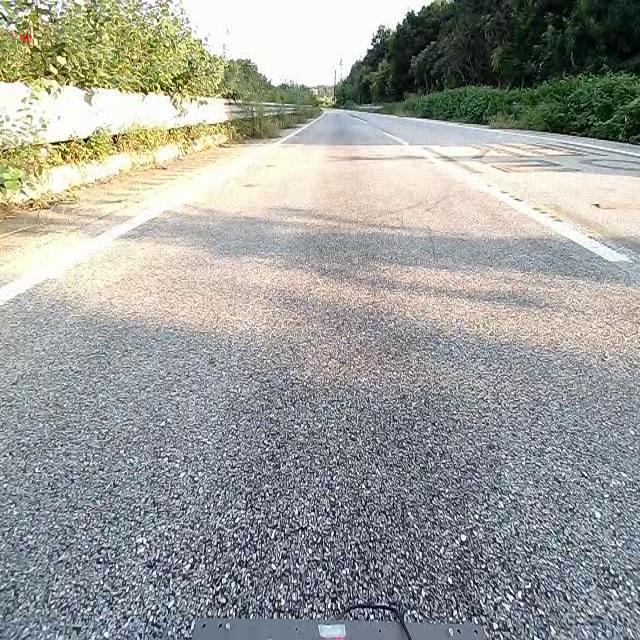Lane: (372, 120, 633, 270), (382, 131, 632, 262), (0, 194, 192, 306), (0, 202, 182, 306)
